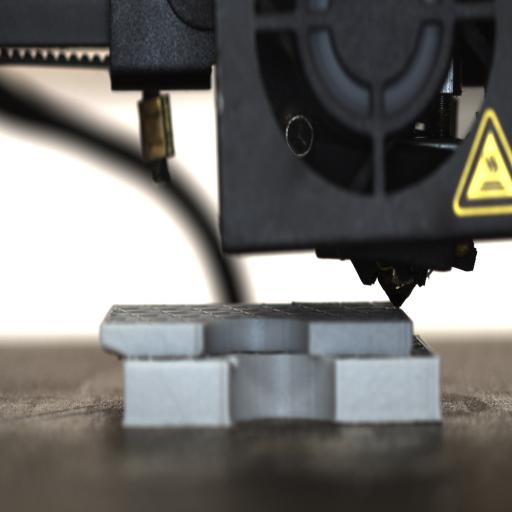layer_shift: (102, 338, 441, 367)
